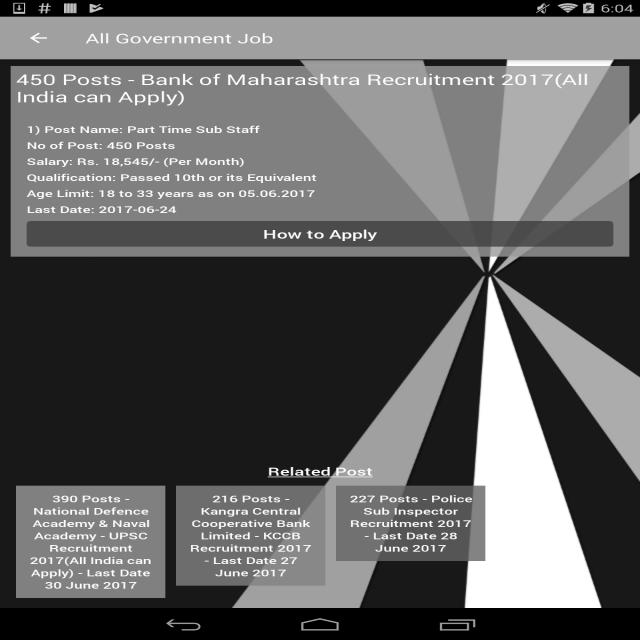Button: (20, 217, 622, 249)
ImageButton: (22, 28, 59, 50)
TextView: (21, 121, 321, 210), (18, 70, 596, 107), (29, 493, 155, 593), (196, 492, 306, 578), (344, 489, 476, 552), (80, 26, 282, 49)
